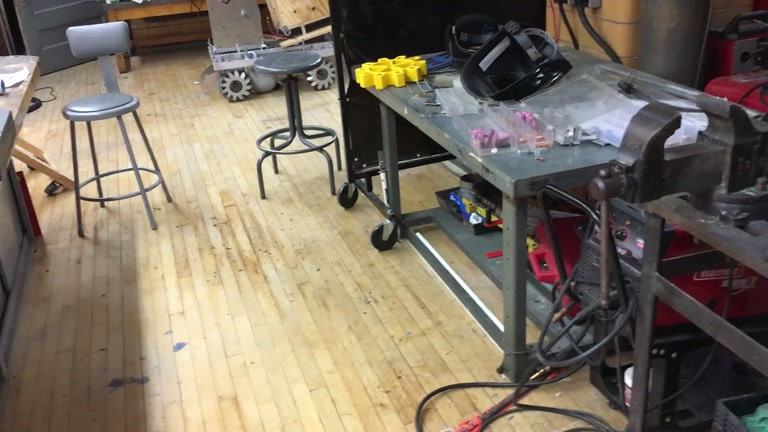gear: (354, 54, 426, 89)
